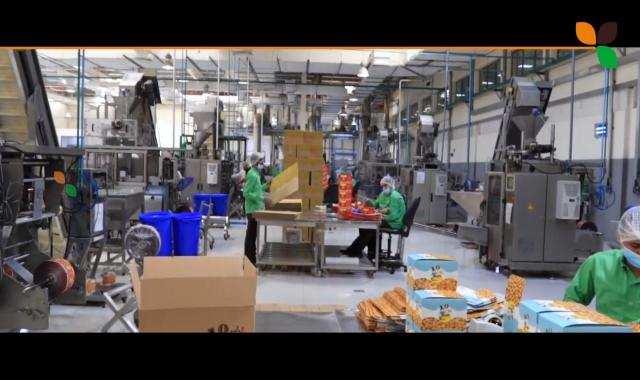hairnet: (618, 206, 640, 245), (379, 174, 395, 194), (248, 150, 261, 168)
